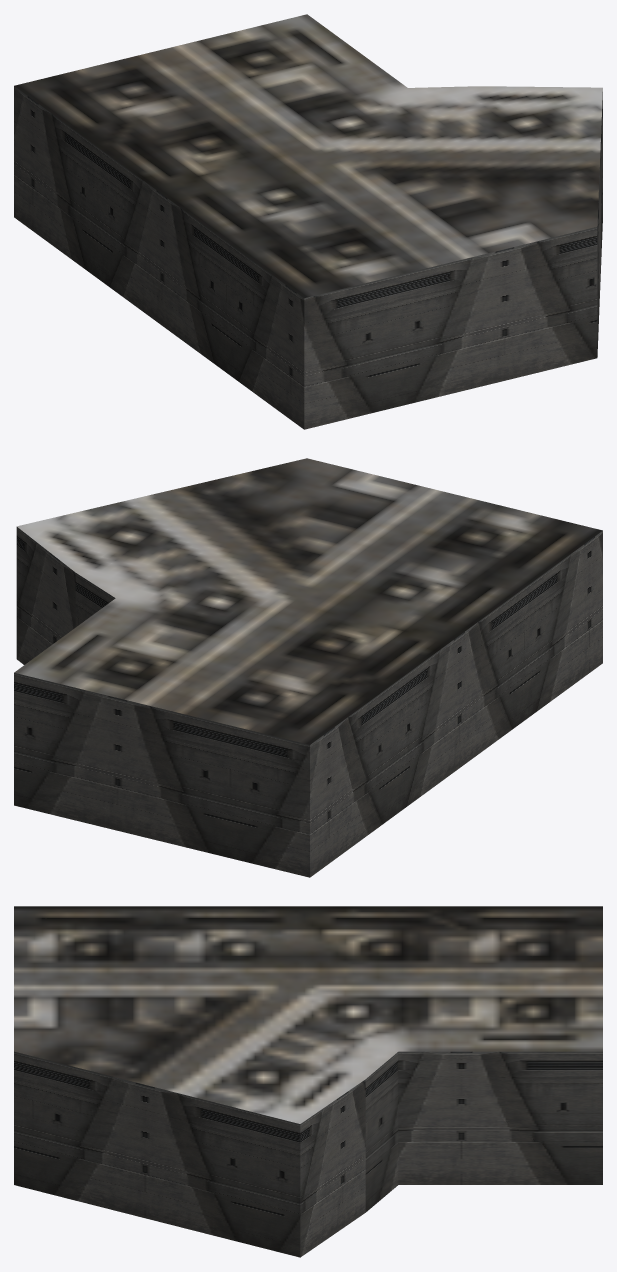
File: fortress_hard_13.glb
The picture shows the model from 3 angles, top to bottom: view 1: azimuth 30°, elevation 25°; view 2: azimuth 150°, elevation 25°; view 3: azimuth 270°, elevation 25°; orthographic projection.
Visible parts, largest first — view 1: buildings/saxarba/fortress_hard/fortress_hard_13; view 2: buildings/saxarba/fortress_hard/fortress_hard_13; view 3: buildings/saxarba/fortress_hard/fortress_hard_13.
Boxes of the visible parts, x1,y1,x2,y2 form: buildings/saxarba/fortress_hard/fortress_hard_13: [14, 14, 602, 429]; buildings/saxarba/fortress_hard/fortress_hard_13: [14, 458, 602, 877]; buildings/saxarba/fortress_hard/fortress_hard_13: [14, 906, 602, 1257].
Bounding box in the file's own units: 63 × 18 × 72.
